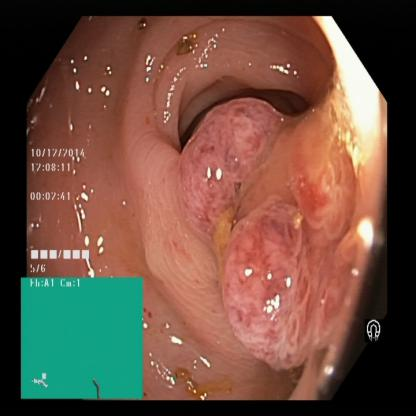Labels: (20, 281, 144, 398), (29, 140, 100, 278), (361, 315, 387, 351)
Polyps: (220, 222, 324, 367), (174, 106, 293, 216)
